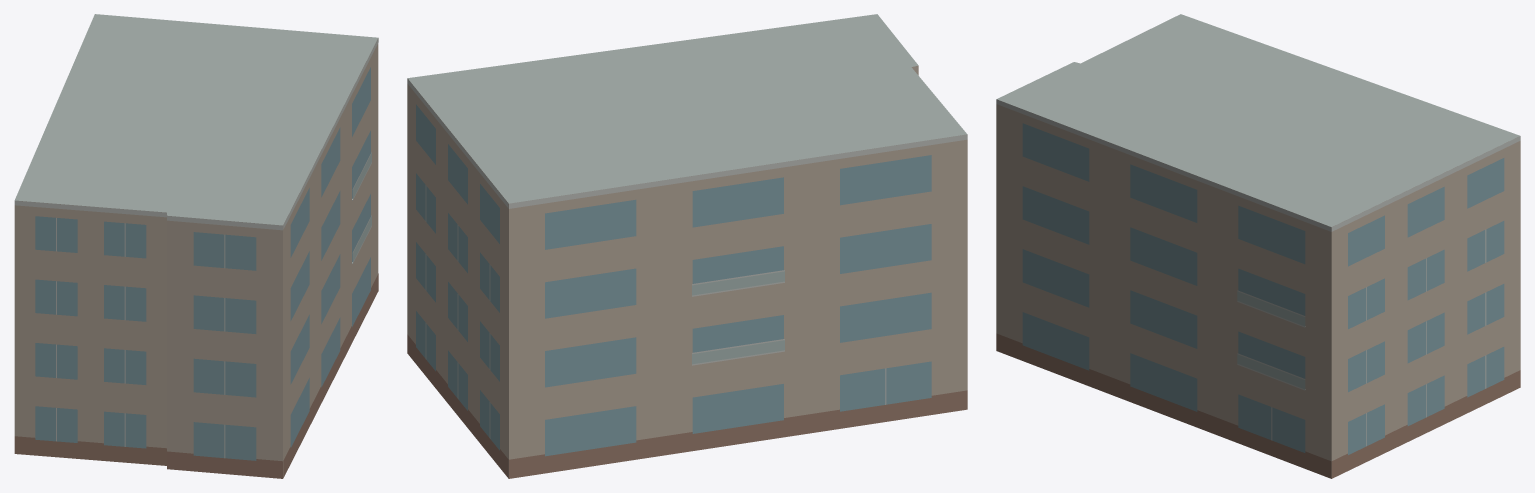
File: survey-upis-32626731.glb
3 renders of one model, left to right at view 1: azimuth 30°, elevation 25°; view 2: azimuth 150°, elevation 25°; view 3: azimuth 270°, elevation 25°, orthographic. The views are drawn at different scales.
Parts seen in each view (by area): view 1: survey-upis-32626731.tmp; view 2: survey-upis-32626731.tmp; view 3: survey-upis-32626731.tmp.
Part boxes in pixels (box(x1,y1,x2,y2)): survey-upis-32626731.tmp: box(14, 14, 378, 478); survey-upis-32626731.tmp: box(407, 14, 967, 478); survey-upis-32626731.tmp: box(996, 14, 1520, 478).
Size of the model in its own units: 23.07 by 12.7 by 23.97.
